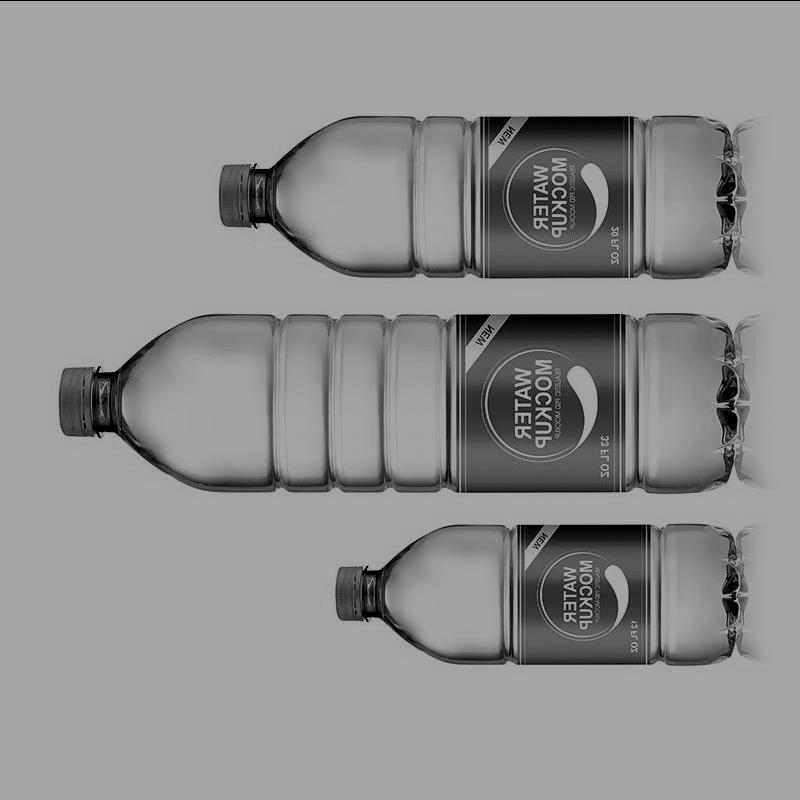bottle: (52, 301, 757, 502), (209, 108, 753, 290), (326, 514, 760, 676)
